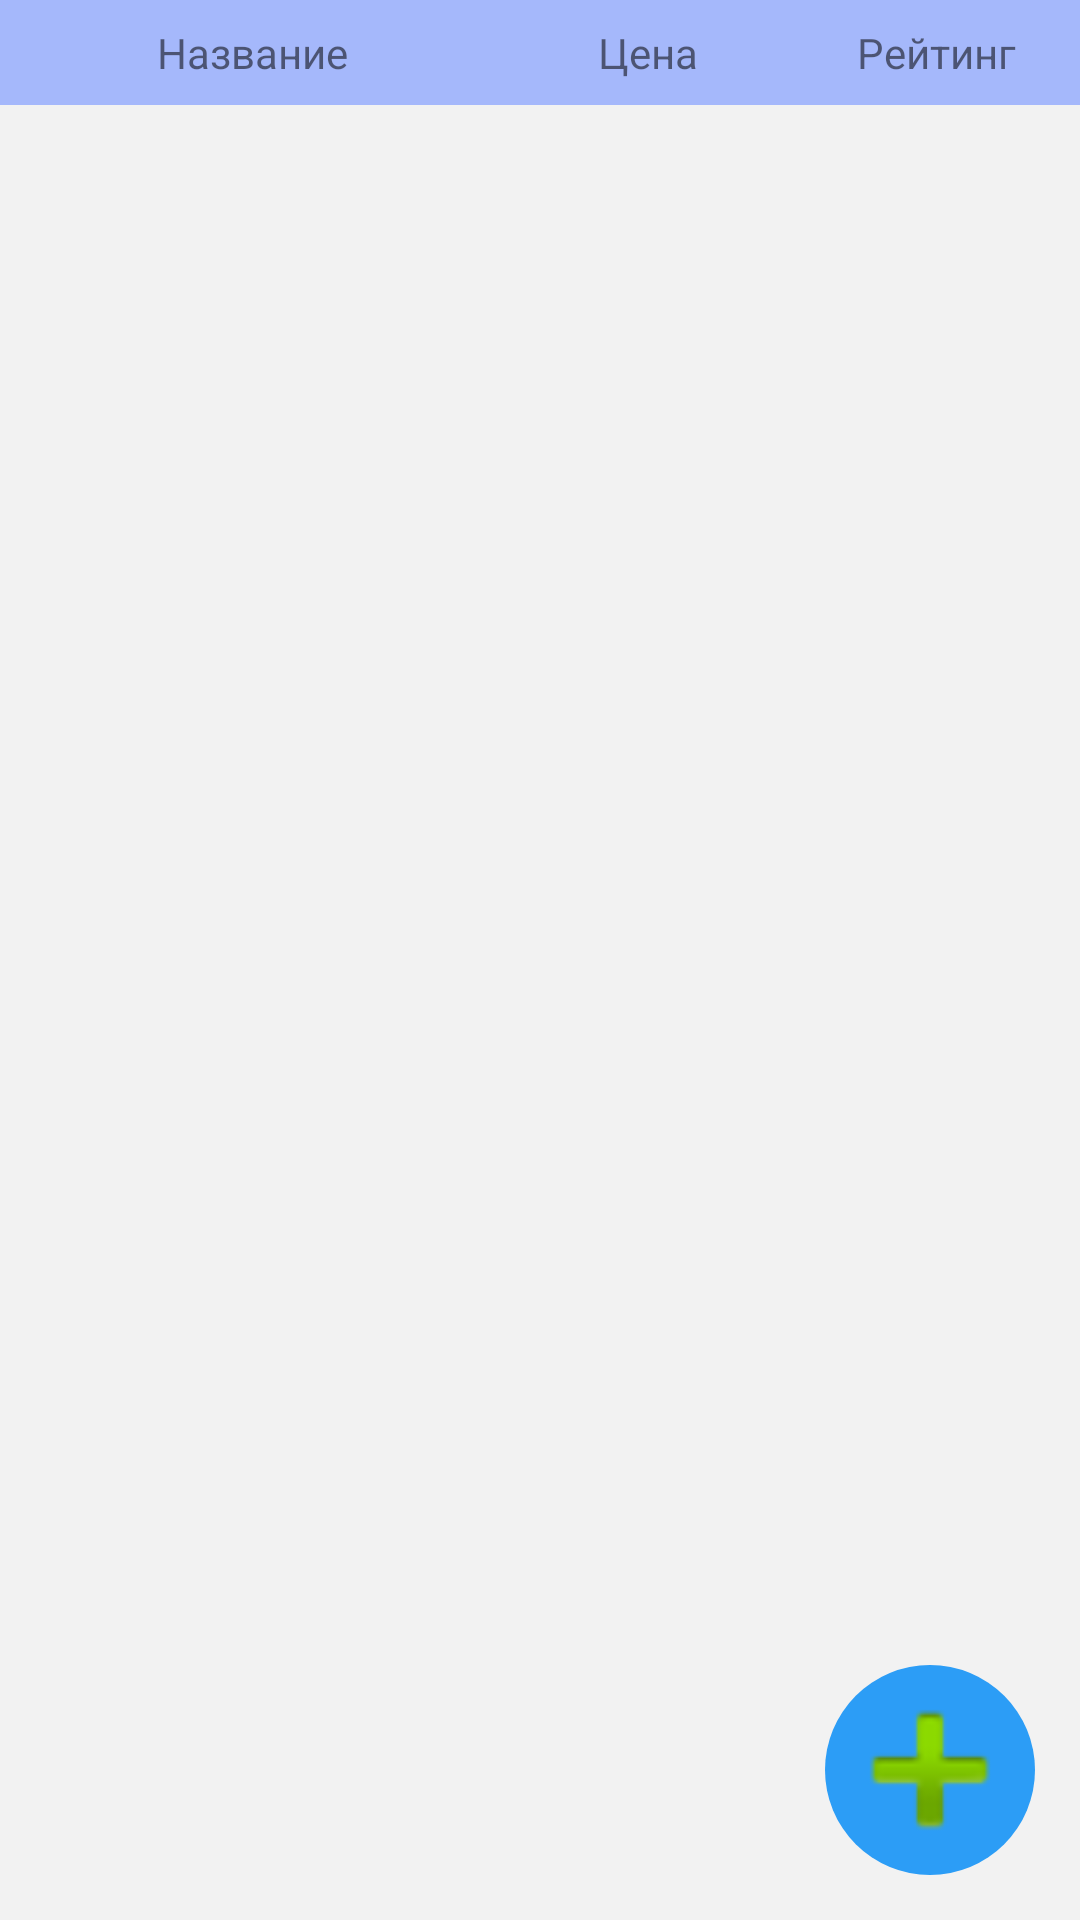

Icons on this 1080px×1920px Android screen, each with its box as (x1,y1,x2,y2):
add: (825,1665,1035,1875)
